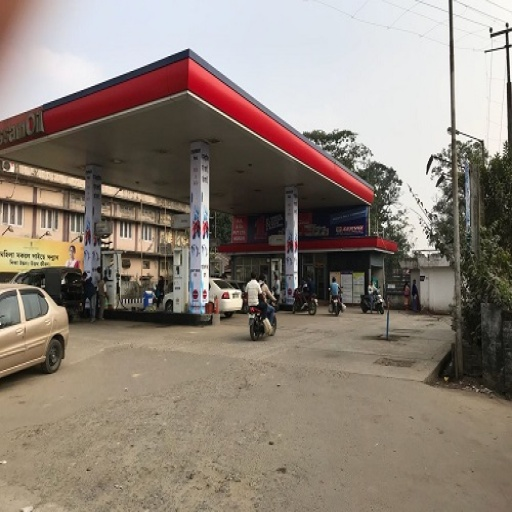roof: (1, 46, 374, 213)
